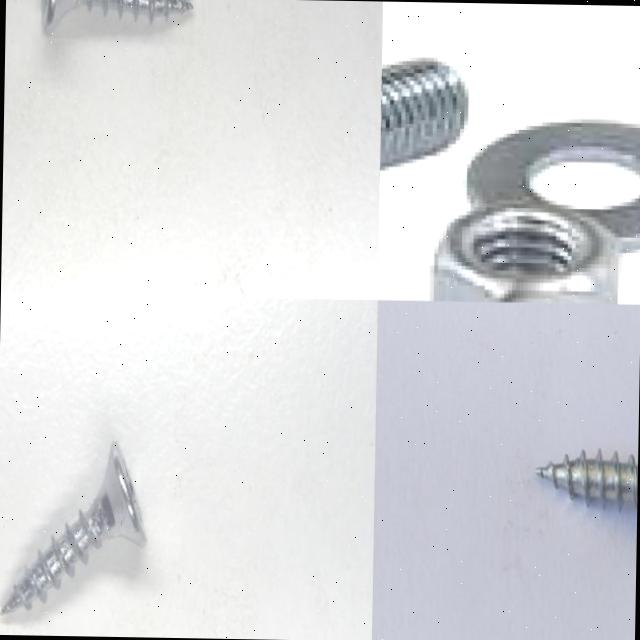Screw: (0, 435, 150, 617), (535, 448, 638, 510), (41, 0, 192, 34)
